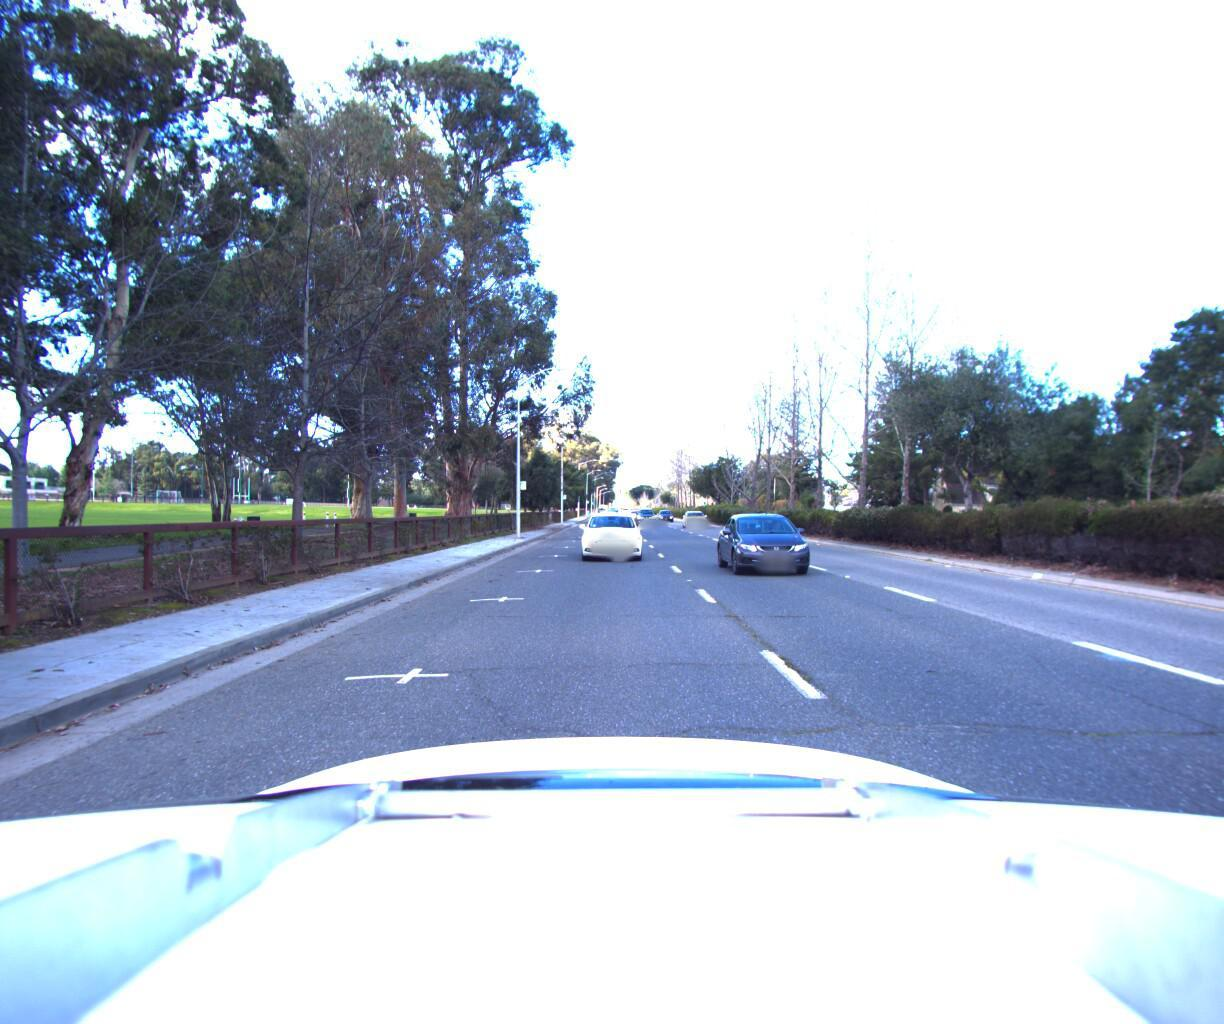car: (716, 509, 840, 582), (575, 506, 650, 560), (678, 506, 710, 526), (635, 506, 657, 523)
